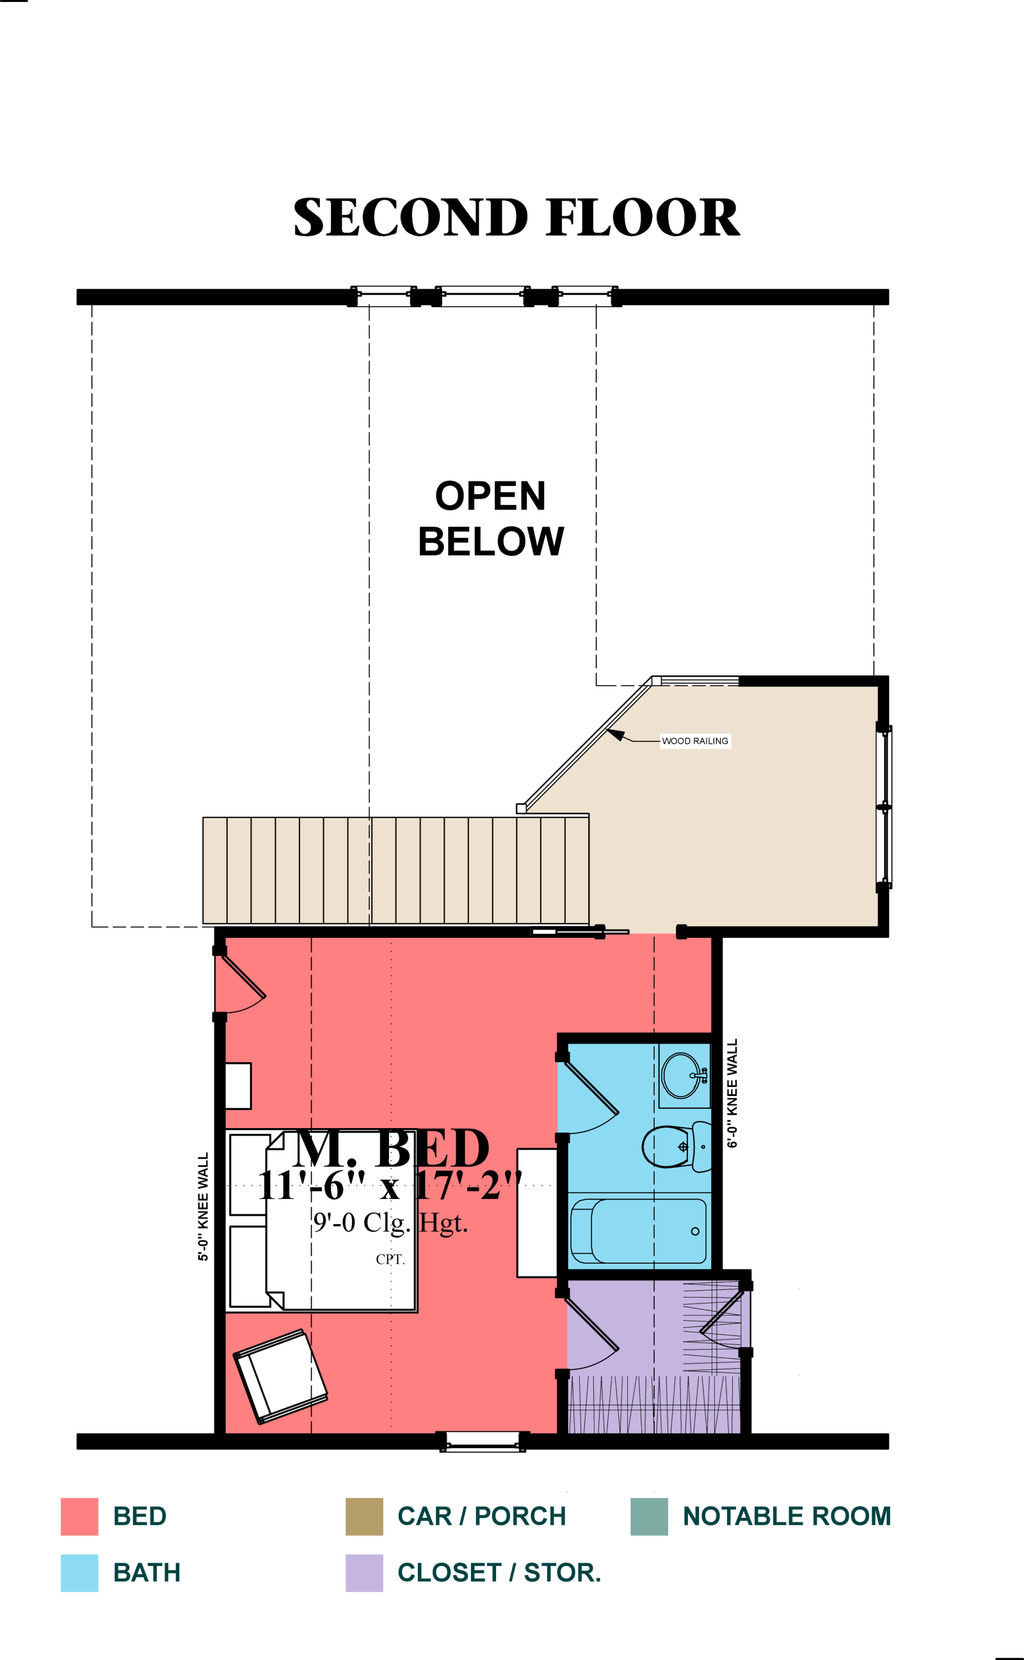bed: (225, 1135, 412, 1321)
door: (562, 1296, 629, 1383), (551, 1064, 622, 1137), (201, 951, 279, 1019)
large_sink: (636, 1119, 718, 1182)
small_sink: (653, 1037, 716, 1116)
small_sofa: (237, 1332, 334, 1423)
stairs: (192, 803, 601, 944)
tub: (559, 1190, 713, 1270)
windows: (337, 280, 625, 317), (871, 723, 904, 894)
